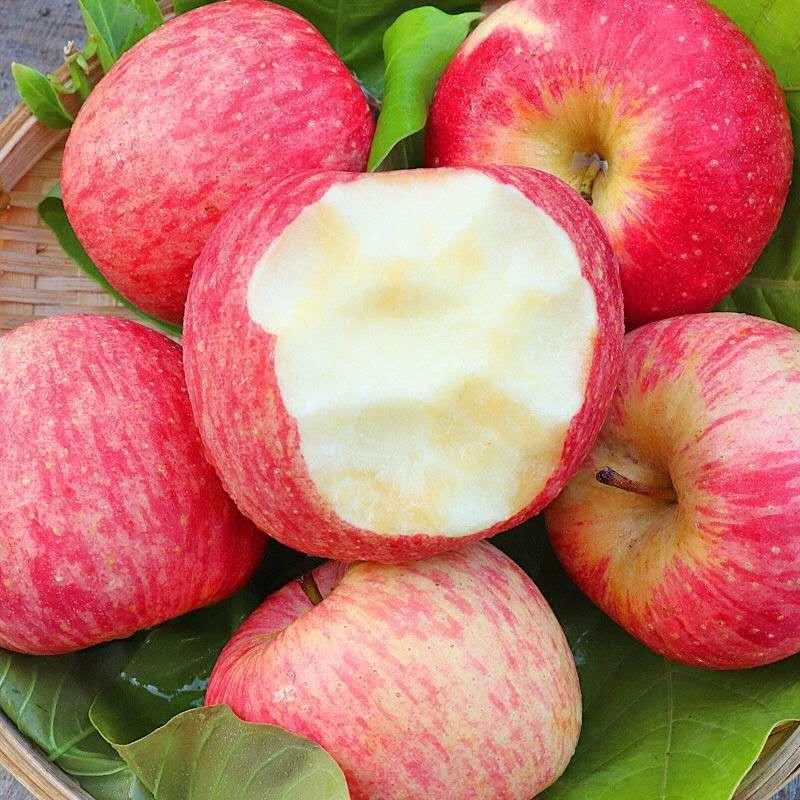apple: (178, 170, 623, 565), (432, 1, 794, 319), (56, 1, 374, 308), (209, 541, 582, 800), (540, 315, 800, 663), (1, 316, 249, 655)
